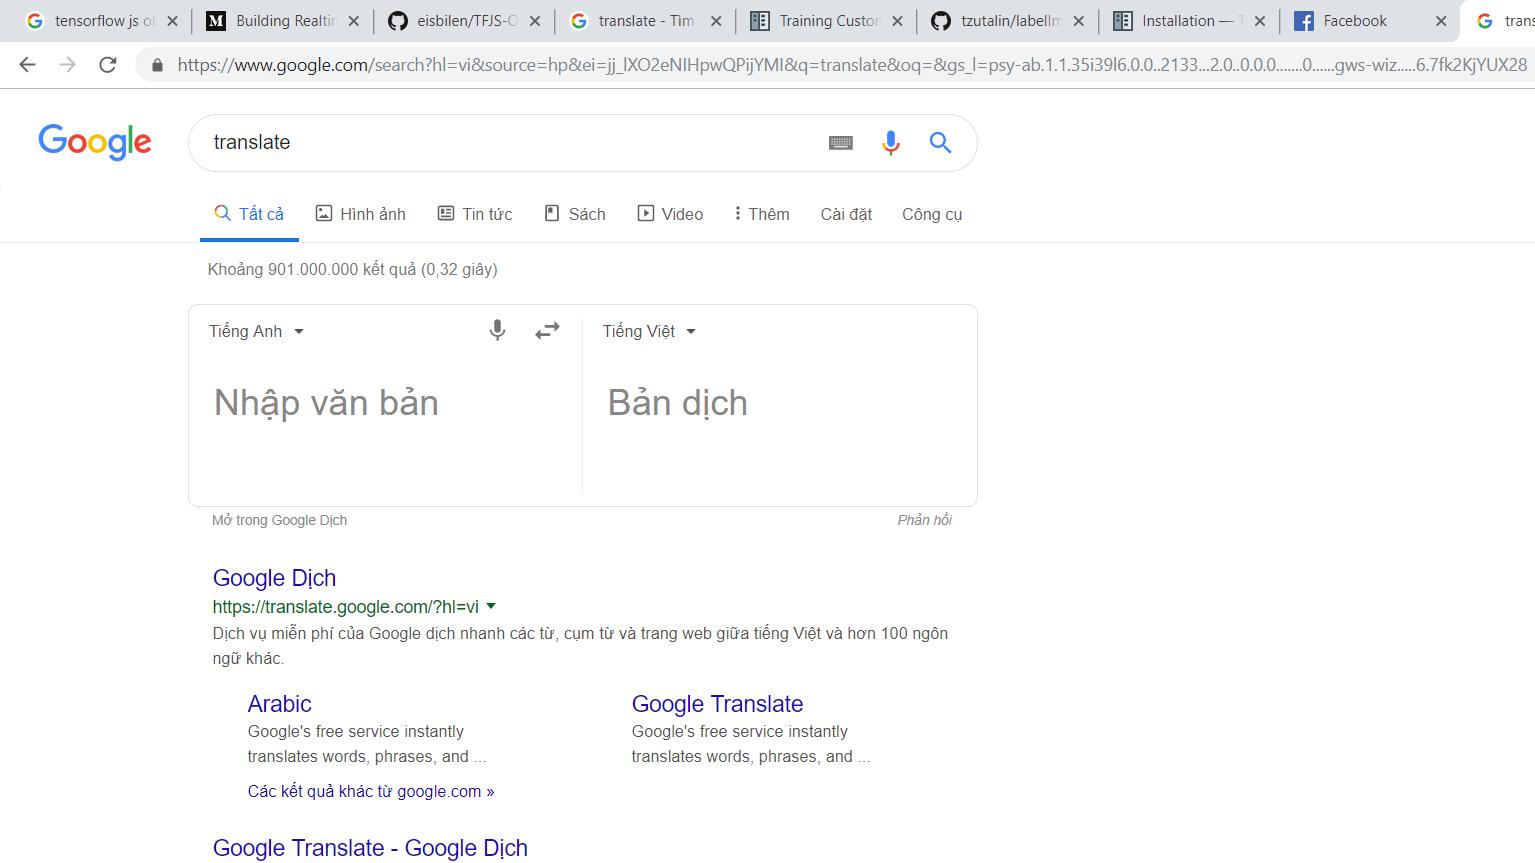google: (35, 120, 154, 162)
